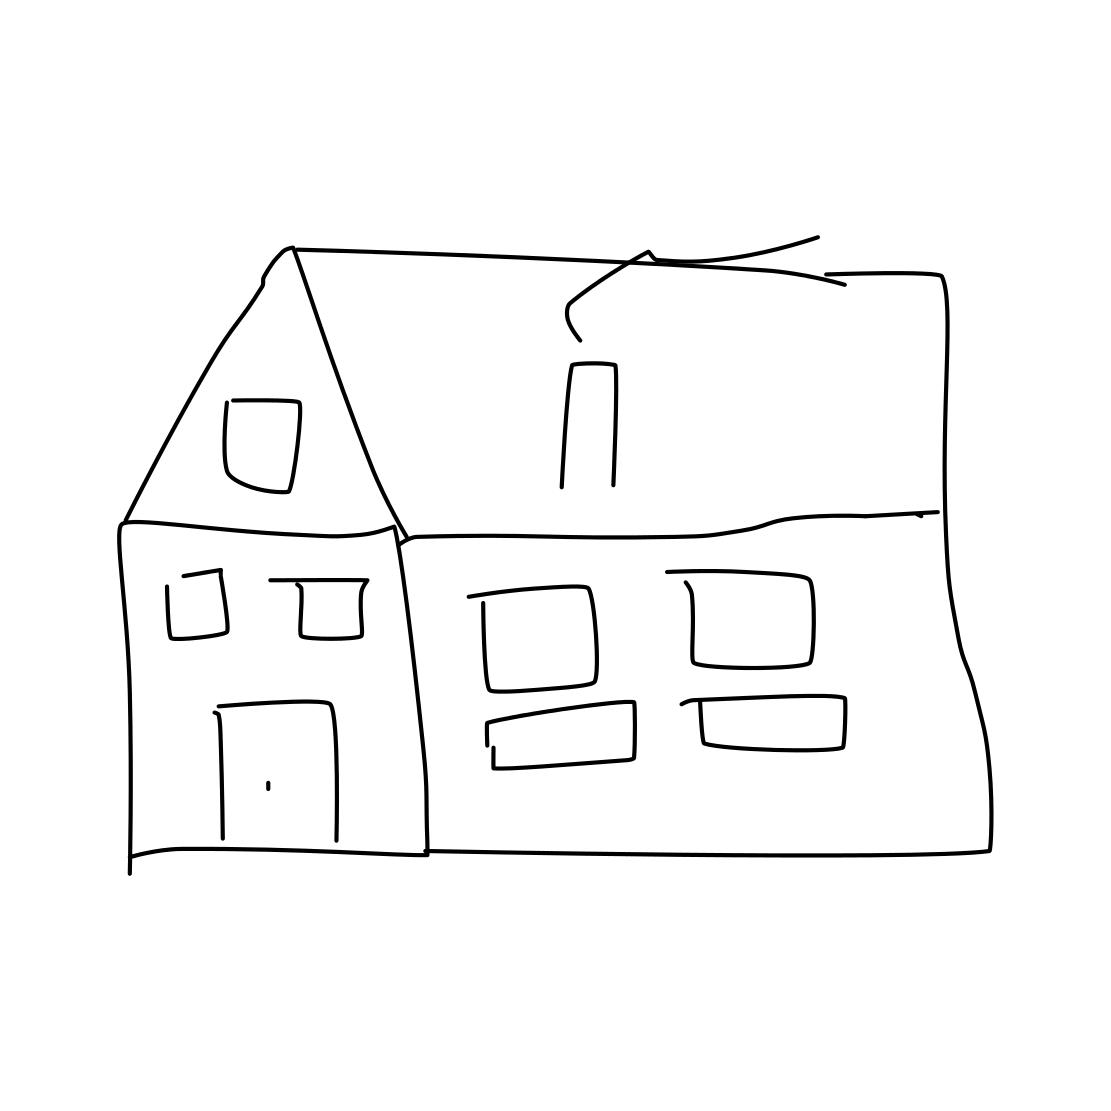chimney: (557, 350, 629, 500)
door: (210, 690, 352, 862)
house: (107, 230, 1010, 859)
roof: (110, 243, 969, 548)
window: (665, 555, 831, 677), (468, 572, 613, 697), (680, 687, 872, 765), (478, 703, 647, 773), (214, 394, 325, 496), (149, 560, 248, 648), (280, 572, 376, 652)
